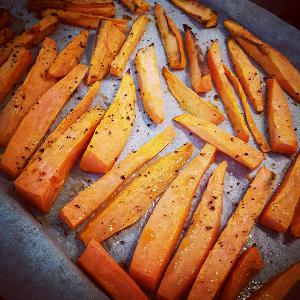fries_350cal: (3, 10, 294, 297)
